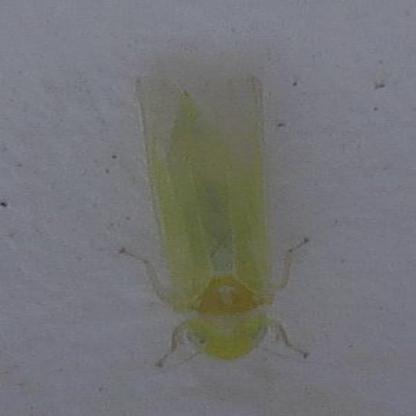green-leafhopper: (123, 72, 330, 371)
